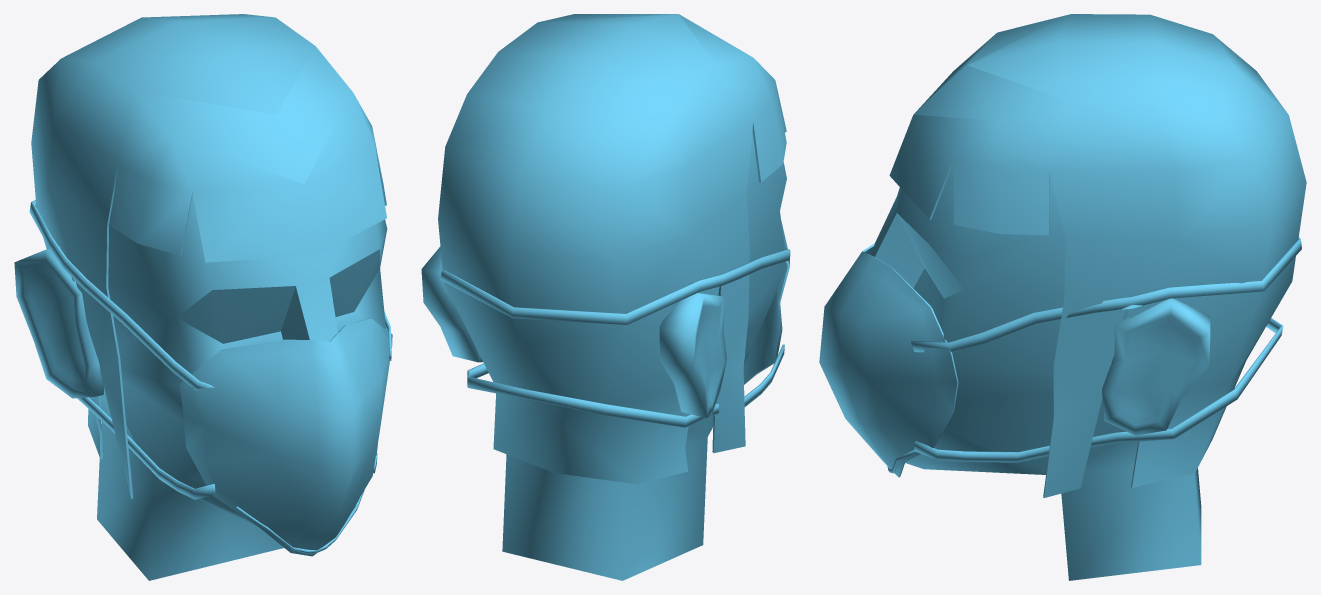
The model's file is headMaskFemale_UpsideDown.FBX.
The picture shows the model from 3 angles, left to right: view 1: azimuth 30°, elevation 25°; view 2: azimuth 150°, elevation 25°; view 3: azimuth 270°, elevation 25°; orthographic projection. The views are drawn at different scales.
Visible parts, largest first — view 1: hairFemale, head, maskN95_onHeadUpsideDownMale, ear; view 2: hairFemale, head, maskN95_onHeadUpsideDownMale, ear; view 3: hairFemale, head, maskN95_onHeadUpsideDownMale, ear.
Part boxes in pixels (box(x1,y1,x2,y2)): hairFemale: box(31, 14, 386, 498); head: box(97, 194, 387, 580); maskN95_onHeadUpsideDownMale: box(29, 200, 392, 556); ear: box(14, 246, 103, 398); hairFemale: box(438, 14, 786, 484); head: box(502, 131, 786, 580); maskN95_onHeadUpsideDownMale: box(440, 221, 790, 427); ear: box(421, 246, 726, 417); hairFemale: box(889, 14, 1306, 497); head: box(870, 163, 1201, 580); maskN95_onHeadUpsideDownMale: box(819, 237, 1301, 477); ear: box(1102, 298, 1210, 435).
Bounding box in the file's own units: 14.19 × 24.76 × 21.8.
